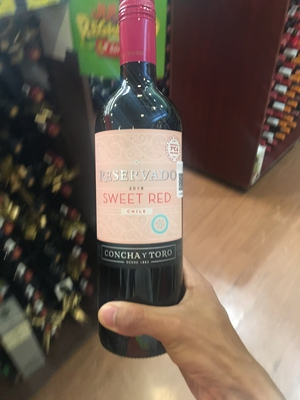reservado sweet red: (84, 4, 202, 357)
